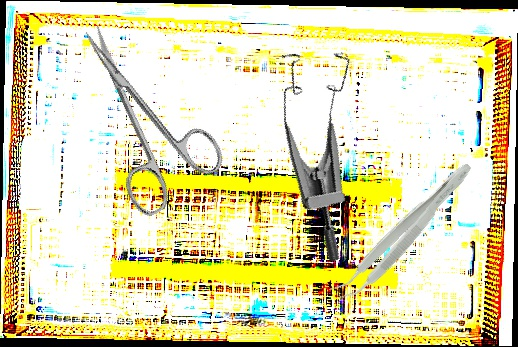Iris Scissors: (48, 2, 234, 222)
Speculum: (242, 31, 423, 264)
Tissue Forceps: (328, 152, 478, 311)
